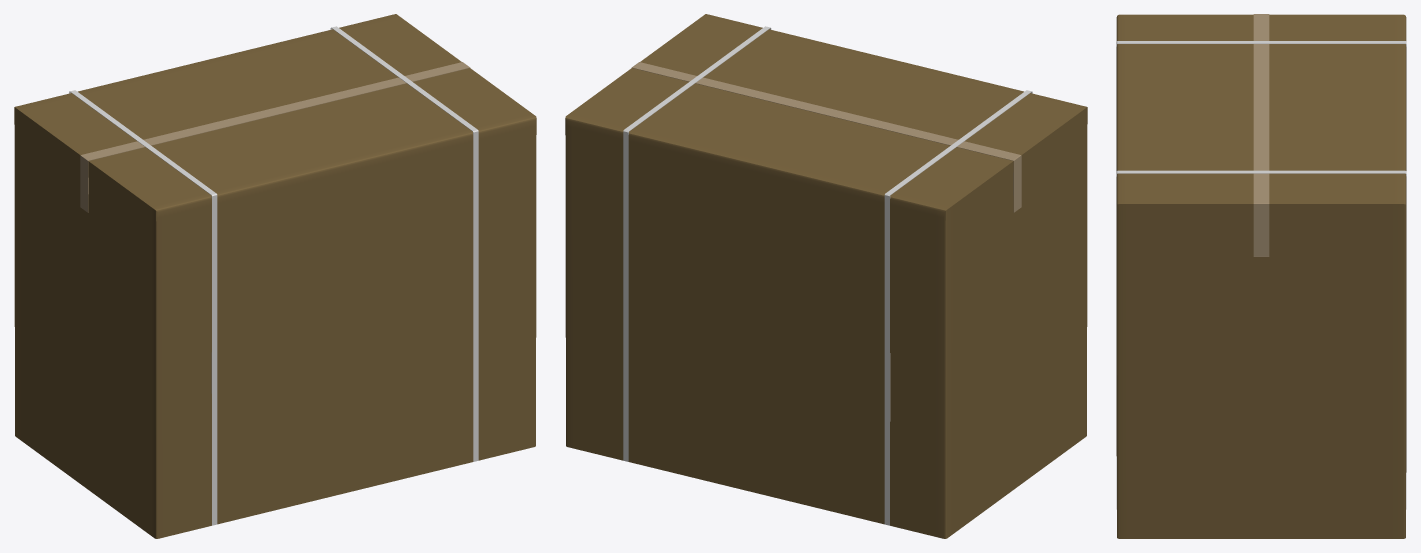
Rendered from KM-2600SWJ3-bin.fbx.
3 renders of one model, left to right at view 1: azimuth 30°, elevation 25°; view 2: azimuth 150°, elevation 25°; view 3: azimuth 270°, elevation 25°, orthographic.
Parts seen in each view (by area): view 1: CardboardBox, tape1, tag1, tag2; view 2: CardboardBox, tape1, tag1, tag2; view 3: CardboardBox, tape1, tag2, tag1.
Part boxes in pixels (left/top/right/bottom): CardboardBox: left=14, top=14, right=536, bottom=538; tape1: left=80, top=62, right=470, bottom=212; tag1: left=69, top=90, right=217, bottom=525; tag2: left=330, top=26, right=478, bottom=461; CardboardBox: left=565, top=14, right=1087, bottom=538; tape1: left=631, top=62, right=1021, bottom=212; tag1: left=884, top=90, right=1032, bottom=525; tag2: left=623, top=26, right=771, bottom=461; CardboardBox: left=1116, top=14, right=1406, bottom=538; tape1: left=1253, top=14, right=1269, bottom=256; tag2: left=1116, top=170, right=1406, bottom=509; tag1: left=1116, top=41, right=1406, bottom=170.
Bounding box in the file's own units: 139 × 115 × 89.79.
